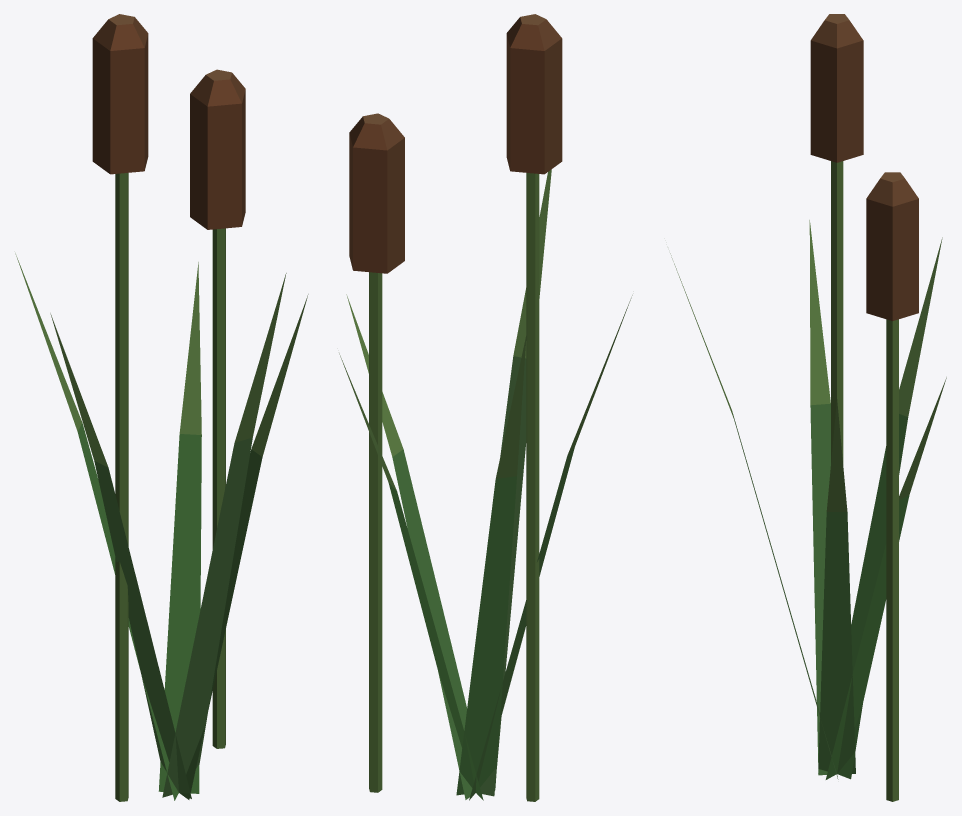
File: cattails_lod0.glb
3 renders of one model, left to right at view 1: azimuth 30°, elevation 25°; view 2: azimuth 150°, elevation 25°; view 3: azimuth 270°, elevation 25°, orthographic. The views are drawn at different scales.
Parts seen in each view (by area): view 1: cattails_lod0; view 2: cattails_lod0; view 3: cattails_lod0.
Part boxes in pixels (x1,y1,x2,y2): cattails_lod0: (15,14,308,801); cattails_lod0: (339,14,632,801); cattails_lod0: (670,14,946,801).
Bounding box in the file's own units: 0.581 × 1.6 × 0.5624.
